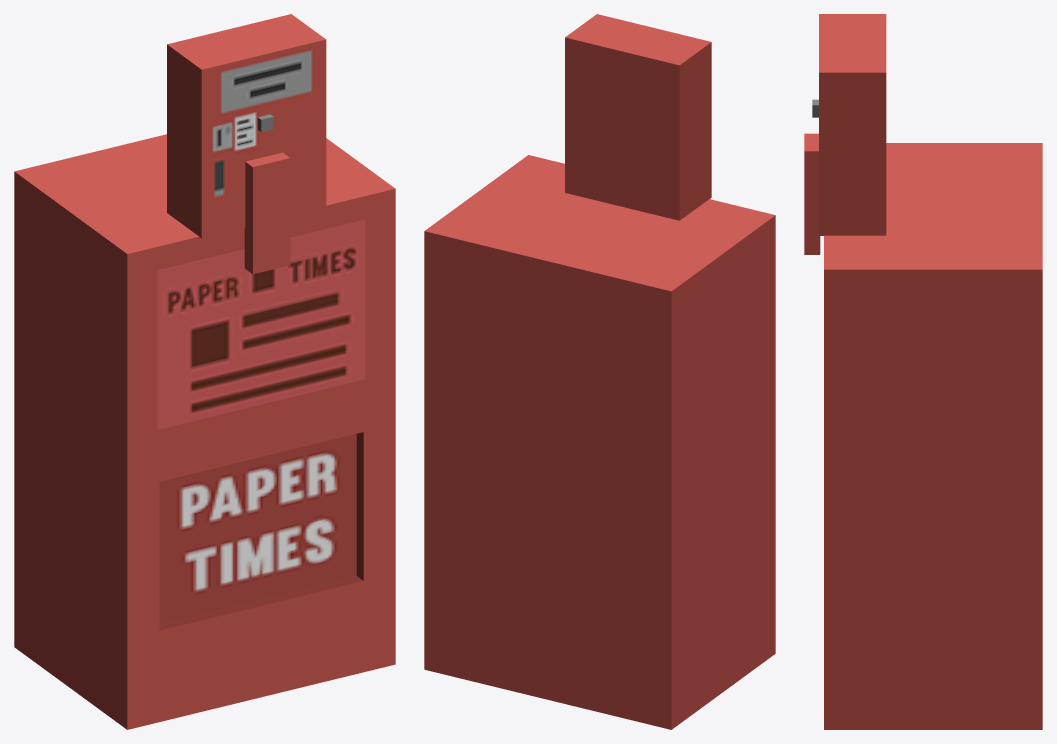
File: SM_PaperStand_Red_01.fbx
3 renders of one model, left to right at view 1: azimuth 30°, elevation 25°; view 2: azimuth 150°, elevation 25°; view 3: azimuth 270°, elevation 25°, orthographic. The views are drawn at different scales.
Parts seen in each view (by area): view 1: SM_PaperStand_Red_01; view 2: SM_PaperStand_Red_01; view 3: SM_PaperStand_Red_01.
Part boxes in pixels (x1,y1,x2,y2): SM_PaperStand_Red_01: [14, 14, 395, 729]; SM_PaperStand_Red_01: [424, 14, 775, 729]; SM_PaperStand_Red_01: [804, 14, 1042, 729].
Bounding box in the file's own units: 1 × 2.3 × 0.7945.
